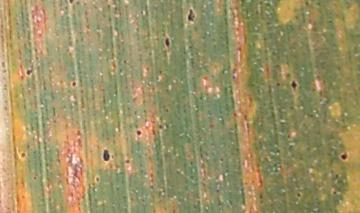tarspot: (185, 5, 195, 25), (101, 147, 111, 165), (162, 35, 171, 52), (230, 65, 237, 82), (289, 78, 297, 92), (339, 151, 349, 162), (155, 68, 162, 83), (76, 136, 83, 151), (18, 150, 28, 160), (147, 171, 155, 183), (25, 67, 34, 77), (65, 46, 73, 57), (150, 124, 157, 136), (40, 76, 46, 90), (335, 64, 343, 74), (315, 72, 323, 82), (258, 190, 263, 205), (70, 79, 78, 88), (134, 128, 142, 137), (94, 174, 101, 184), (31, 173, 39, 181), (295, 190, 302, 199), (306, 112, 315, 119), (284, 71, 291, 80), (75, 128, 82, 137), (318, 88, 324, 98), (124, 158, 132, 165), (242, 113, 249, 121), (208, 122, 215, 130), (201, 74, 209, 81), (188, 159, 195, 167), (219, 155, 225, 164), (245, 120, 251, 129), (215, 186, 220, 196), (157, 123, 164, 130), (121, 57, 128, 64), (288, 104, 295, 111), (332, 189, 338, 197), (334, 172, 340, 180), (146, 50, 154, 56), (231, 110, 237, 118), (118, 67, 124, 75), (74, 1, 82, 7), (322, 78, 327, 87), (78, 88, 85, 94), (139, 9, 145, 16), (285, 133, 292, 139), (144, 124, 150, 131), (143, 117, 149, 124), (314, 1, 322, 6), (149, 119, 157, 124), (171, 207, 177, 213), (58, 78, 64, 84), (67, 1, 74, 6), (303, 1, 310, 6), (327, 18, 332, 25), (133, 109, 137, 117), (145, 66, 151, 71), (105, 3, 110, 9), (113, 5, 118, 11), (275, 82, 280, 87), (237, 46, 242, 51), (111, 1, 116, 6), (165, 107, 169, 113), (104, 1, 109, 3)
